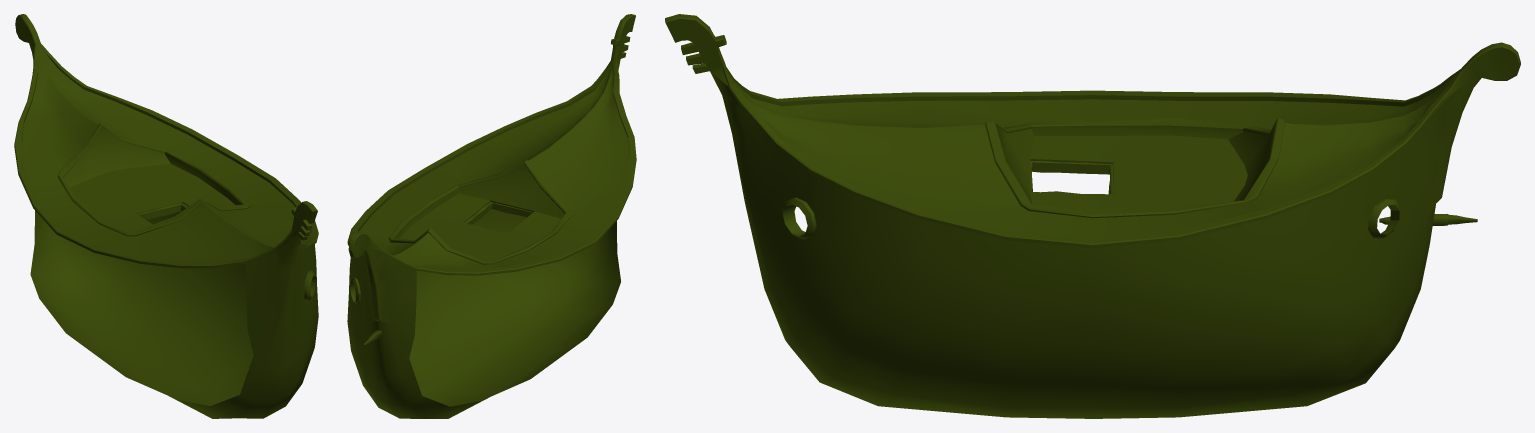
The model's file is mc_side_right_ext_lod01.FBX.
The picture shows the model from 3 angles, left to right: view 1: azimuth 30°, elevation 25°; view 2: azimuth 150°, elevation 25°; view 3: azimuth 270°, elevation 25°; orthographic projection. The views are drawn at different scales.
Visible parts, largest first — view 1: mc_side_right_ext, mc_side_right_ext_hatchtrim, mc_side_right_ext_windows; view 2: mc_side_right_ext, mc_side_right_ext_hatchtrim; view 3: mc_side_right_ext, mc_side_right_ext_windows, mc_side_right_ext_hatchtrim.
Part boxes in pixels (bbox=[...]): mc_side_right_ext: bbox=[14, 14, 318, 418]; mc_side_right_ext_hatchtrim: bbox=[138, 203, 188, 219]; mc_side_right_ext_windows: bbox=[304, 270, 315, 300]; mc_side_right_ext: bbox=[347, 14, 636, 418]; mc_side_right_ext_hatchtrim: bbox=[464, 202, 533, 227]; mc_side_right_ext: bbox=[665, 14, 1520, 418]; mc_side_right_ext_windows: bbox=[782, 197, 1400, 239]; mc_side_right_ext_hatchtrim: bbox=[1030, 161, 1113, 194].
Bounding box in the file's own units: 52.22 × 60.11 × 123.
